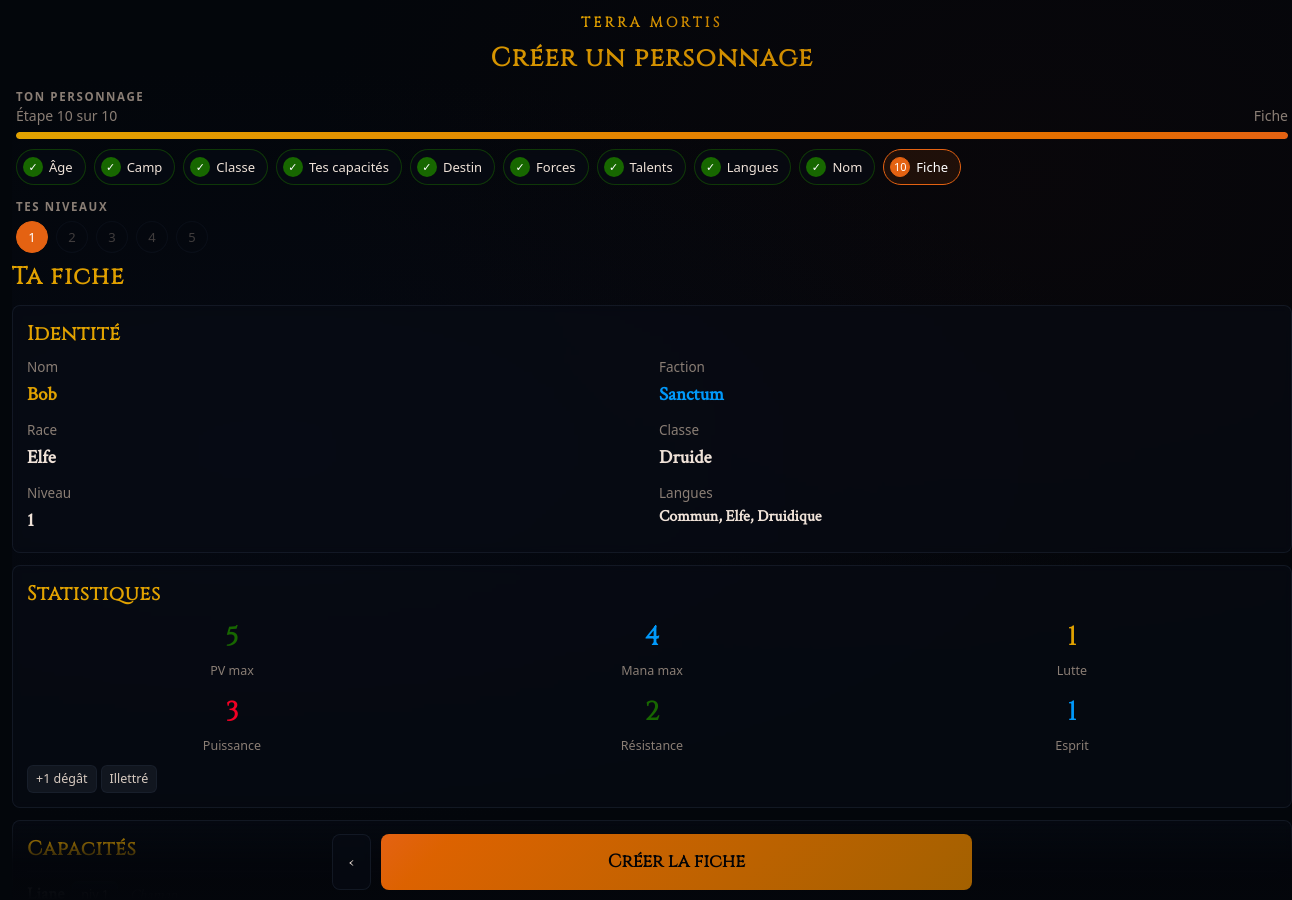
Test case: D20 ③ — le train ne rompt pas › jumelle : une cible au niveau de départ ne fait rouler aucun train
Click the button "Créer la fiche" at (676, 862), box left=381, top=834, right=972, bottom=890
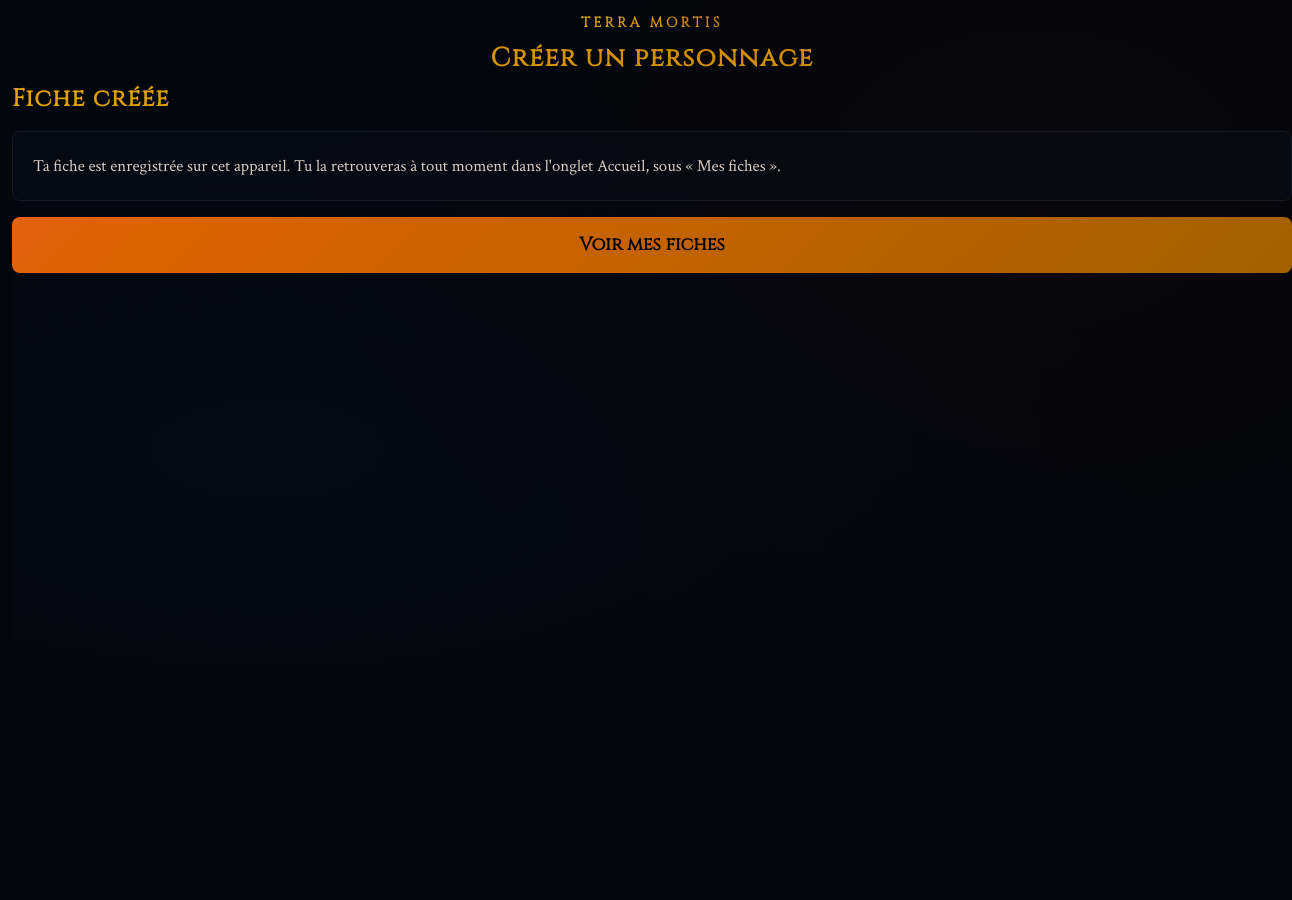
Now the heading "Fiche créée" is shown, box left=12, top=83, right=1291, bottom=115
